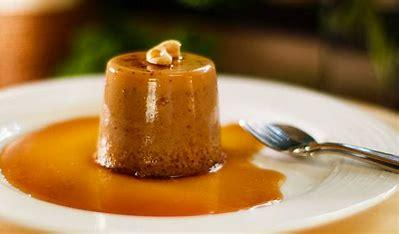Watalappam: (92, 40, 225, 191)
